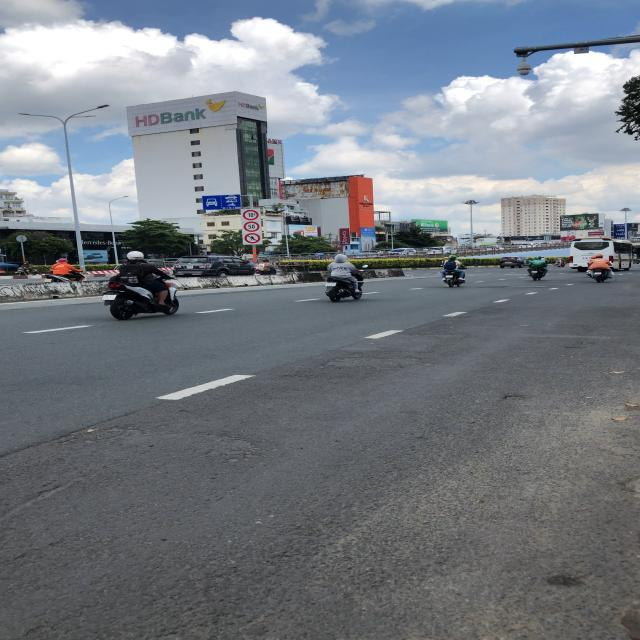Bien bao cam nguoi di bo: (243, 232, 263, 245)
Bien bao toc do toi da cho phep: (242, 221, 261, 233)
